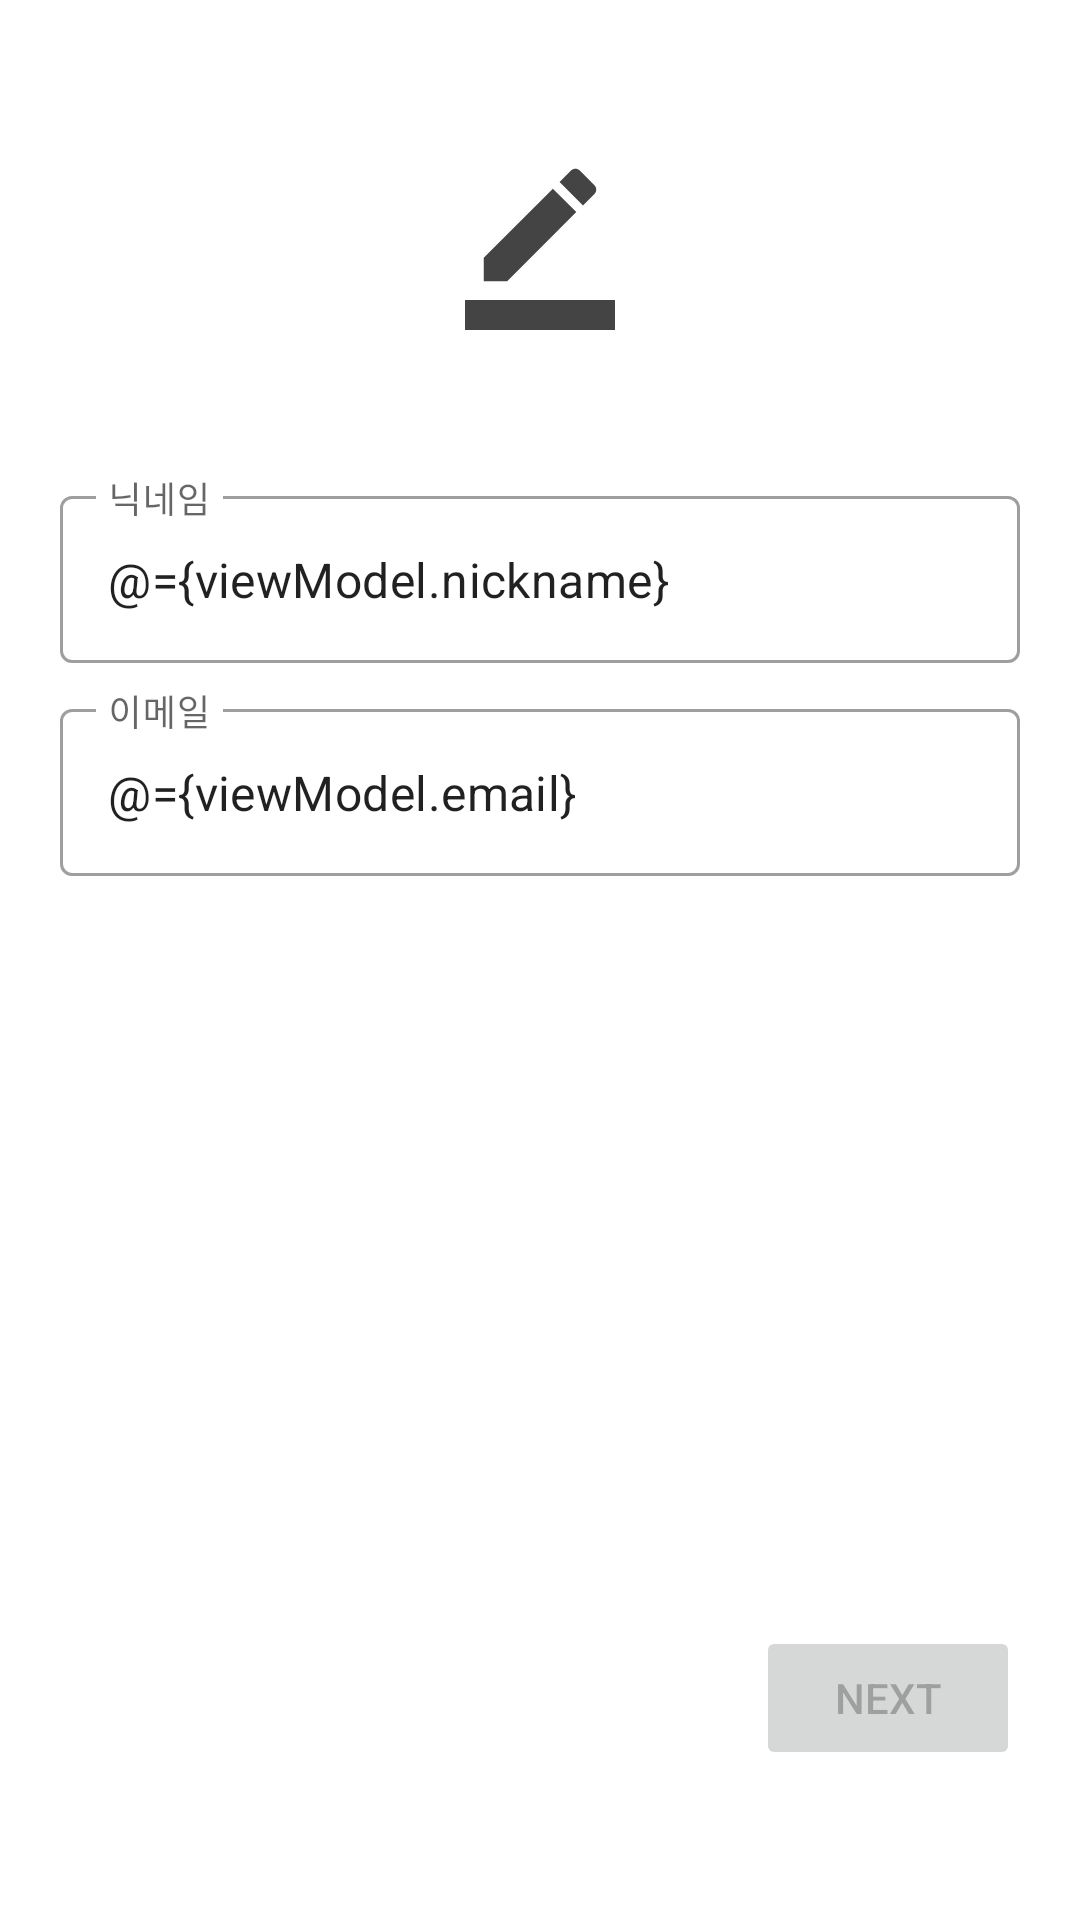

Screen size 1080w x 1920h. Icon name, then its center in pixels as (x,y):
edit: (540,225)
